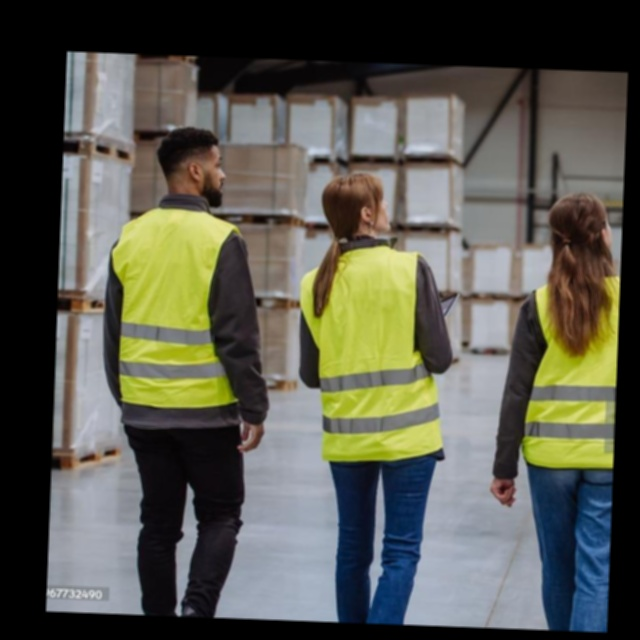Con_Chaleco: (293, 244, 456, 463), (104, 203, 258, 413), (524, 268, 620, 473)
Sin_Casco_Mascarrilla: (154, 125, 225, 203), (319, 171, 396, 236)
